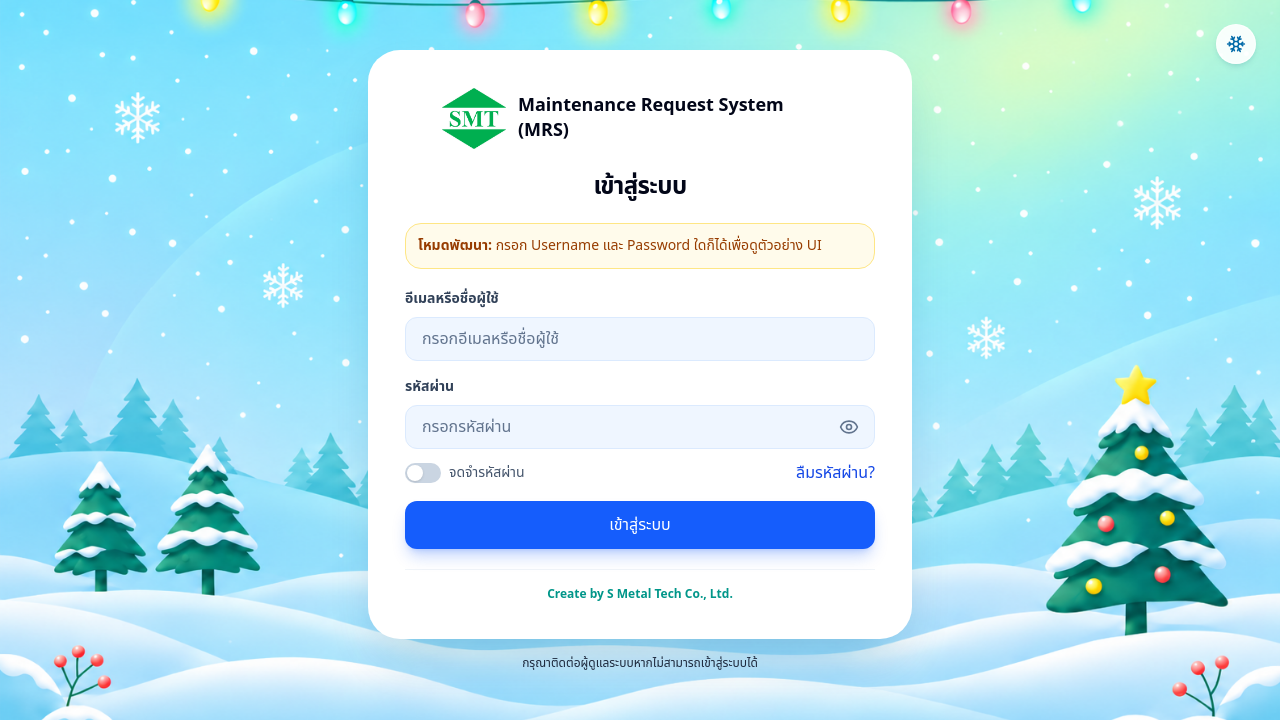
LoginPage › shows validation errors when submitted empty
Click the button "เข้าสู่ระบบ": (640, 524) x1=405 y1=500 x2=875 y2=548
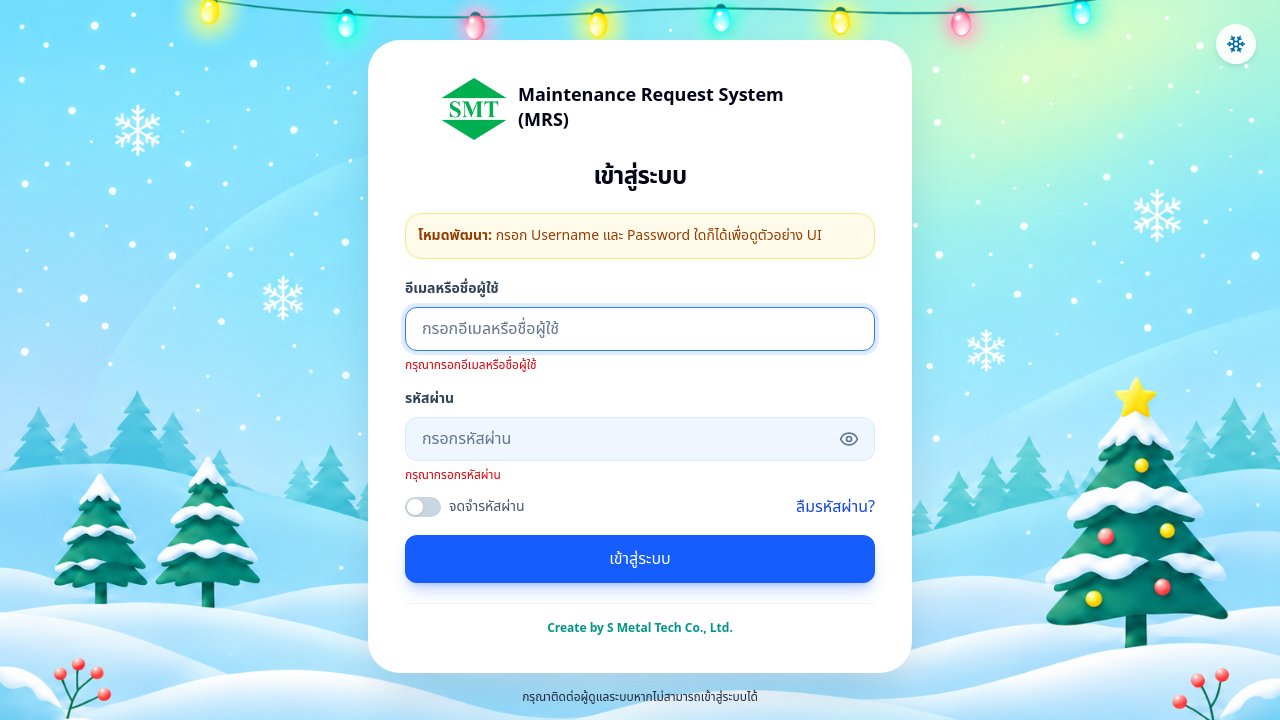
Result: the text "กรุณากรอกอีเมลหรือชื่อผู้ใช้" is shown at x1=405 y1=356 x2=537 y2=374
Result: the text "กรุณากรอกรหัสผ่าน" is shown at x1=405 y1=466 x2=501 y2=484
